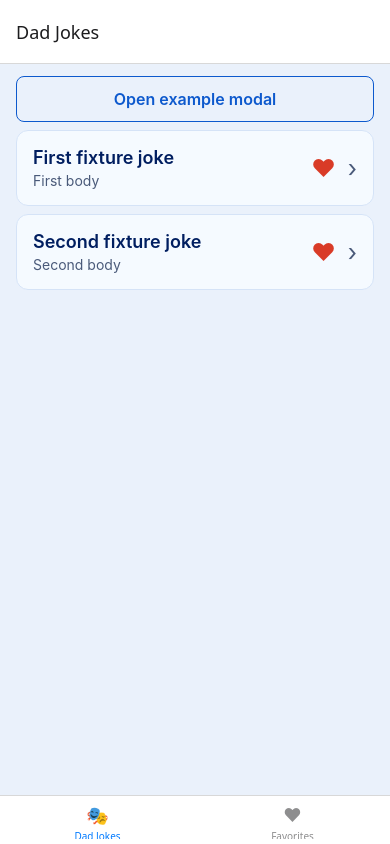
it: RootNavigator › presents the example modal from the list header
The image size is (390, 844).
Expected: the text "First fixture joke" is shown, [33,147,174,168]
Click the button with test id "OpenModalButton". click: (195, 99)
box: [16,76,374,122]
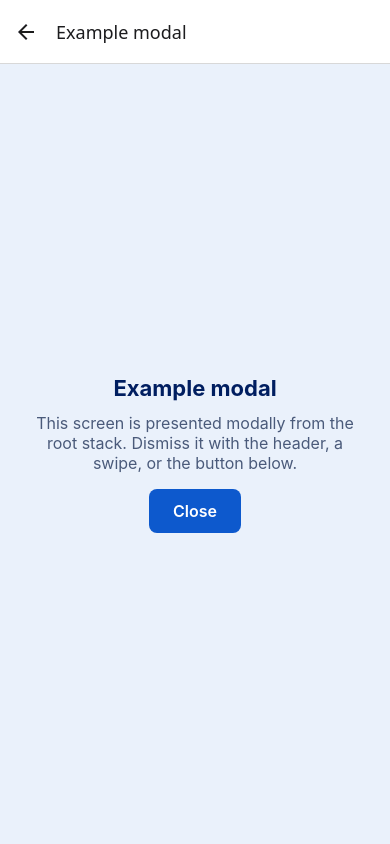
Result: the element with test id "ExampleModal" is shown
